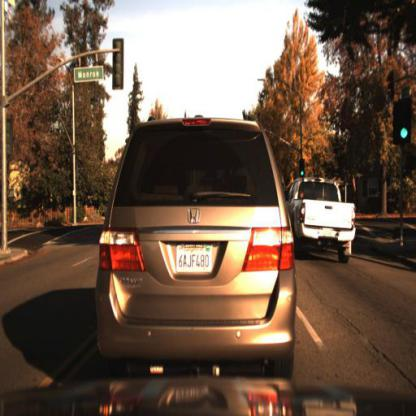car: (96, 112, 298, 377), (286, 177, 358, 269)
trafficLight-Green: (397, 95, 412, 149), (300, 158, 309, 182)
